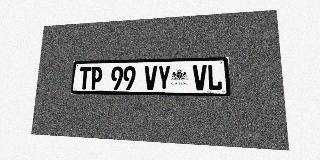9: (110, 66, 123, 90), (123, 66, 136, 90)
L: (207, 64, 222, 90)
P: (90, 67, 103, 90)
T: (78, 67, 91, 89)
V: (193, 65, 207, 90), (144, 66, 157, 90)
Y: (157, 65, 171, 90)
